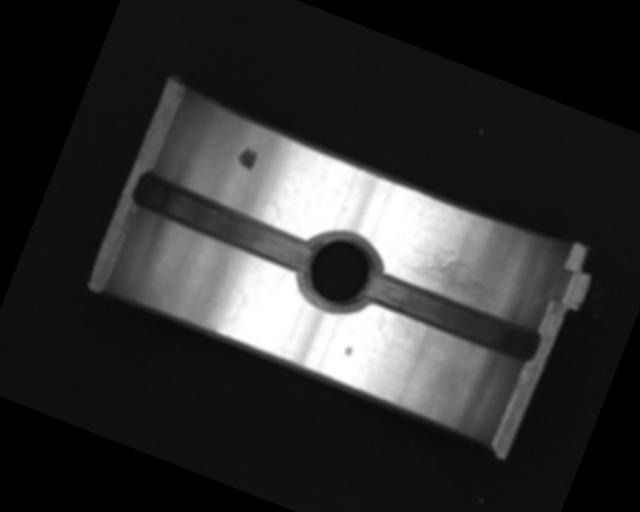blot: (234, 145, 260, 172)
bruise: (342, 344, 355, 359)
gap: (129, 170, 321, 276), (361, 267, 543, 366)
hole: (293, 222, 389, 323)
nick: (229, 253, 267, 317)
scratch: (393, 234, 512, 310)
